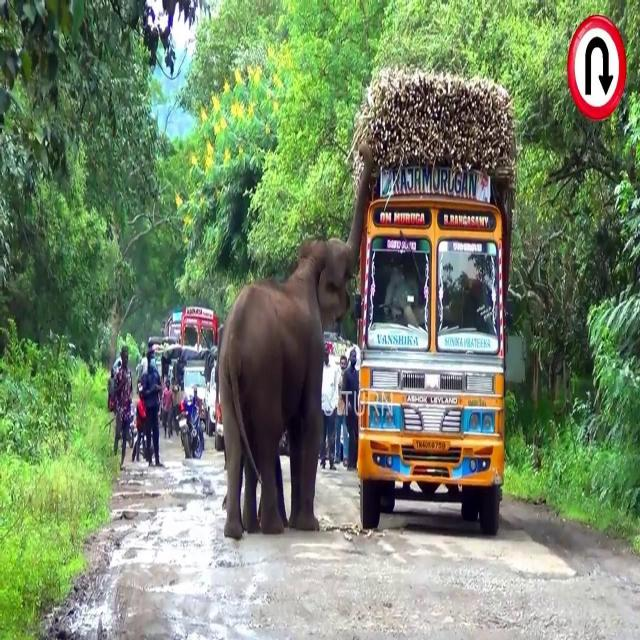Elephant: (216, 143, 376, 541)
